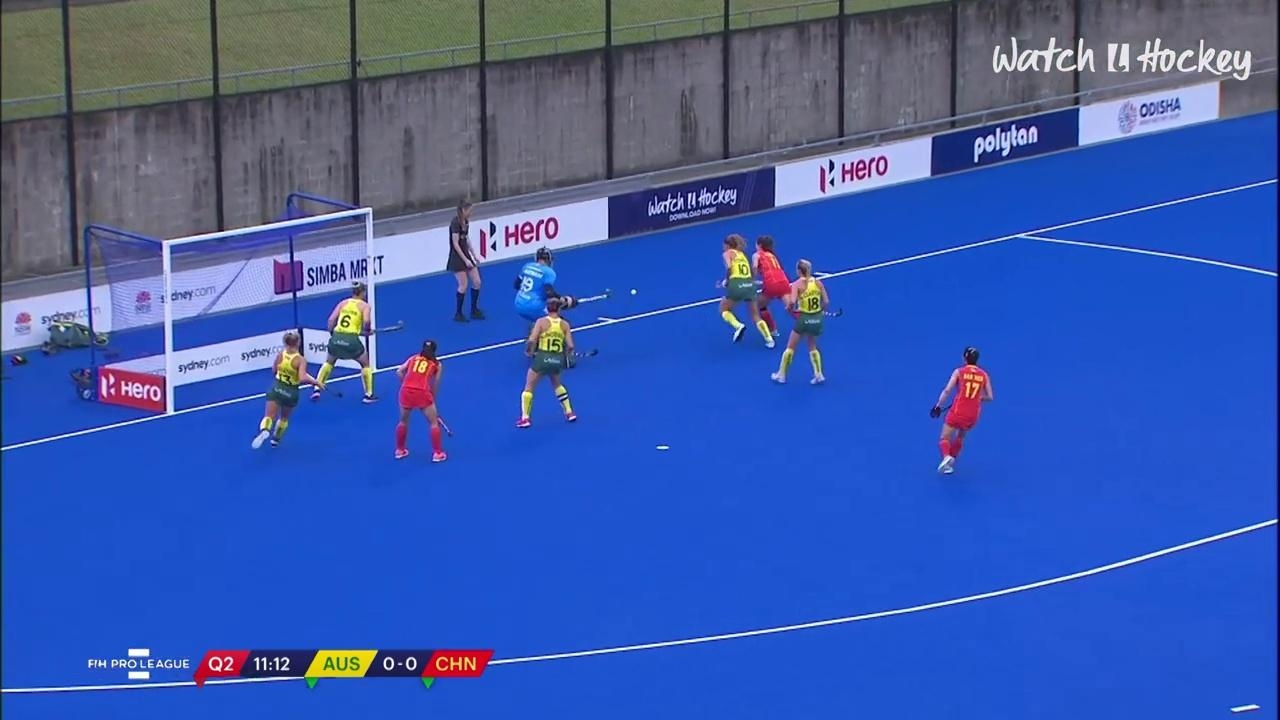ball: (624, 284, 642, 299)
